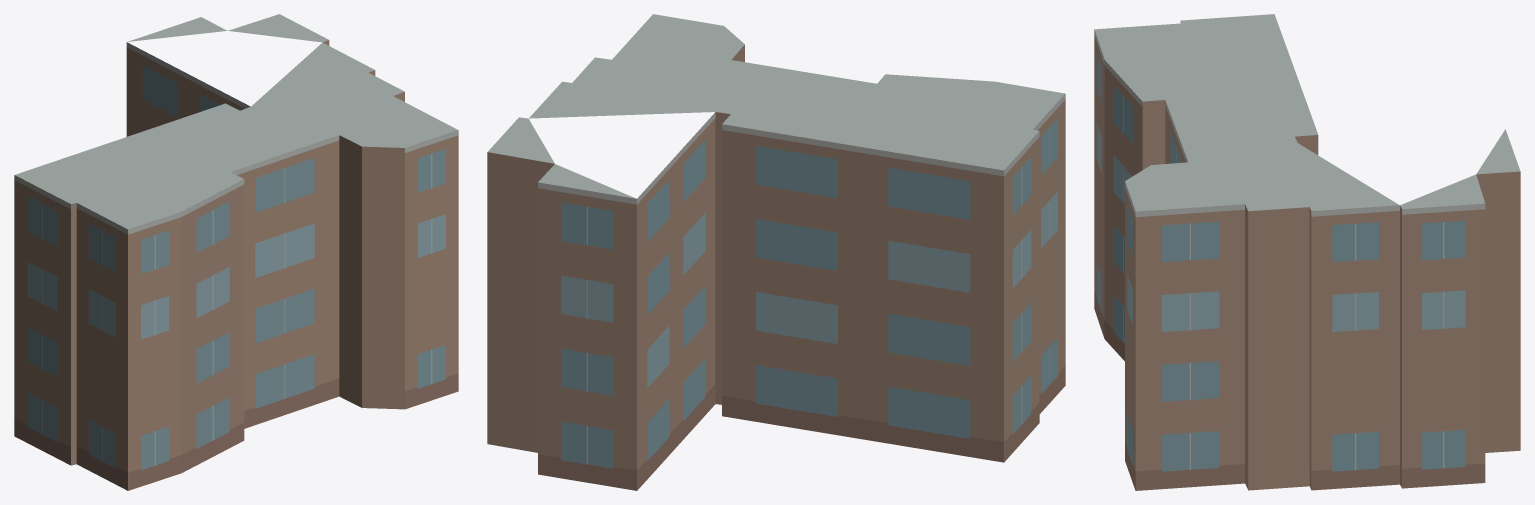
Rendered from survey-upis-32990247.glb.
The picture shows the model from 3 angles, left to right: view 1: azimuth 30°, elevation 25°; view 2: azimuth 150°, elevation 25°; view 3: azimuth 270°, elevation 25°; orthographic projection. The views are drawn at different scales.
Visible parts, largest first — view 1: survey-upis-32990247.tmp; view 2: survey-upis-32990247.tmp; view 3: survey-upis-32990247.tmp.
Boxes of the visible parts, x1,y1,x2,y2 form: survey-upis-32990247.tmp: (14, 14, 458, 490); survey-upis-32990247.tmp: (487, 14, 1065, 490); survey-upis-32990247.tmp: (1094, 14, 1520, 490).
Size of the model in its own units: 18.53 by 12.2 by 16.89.
